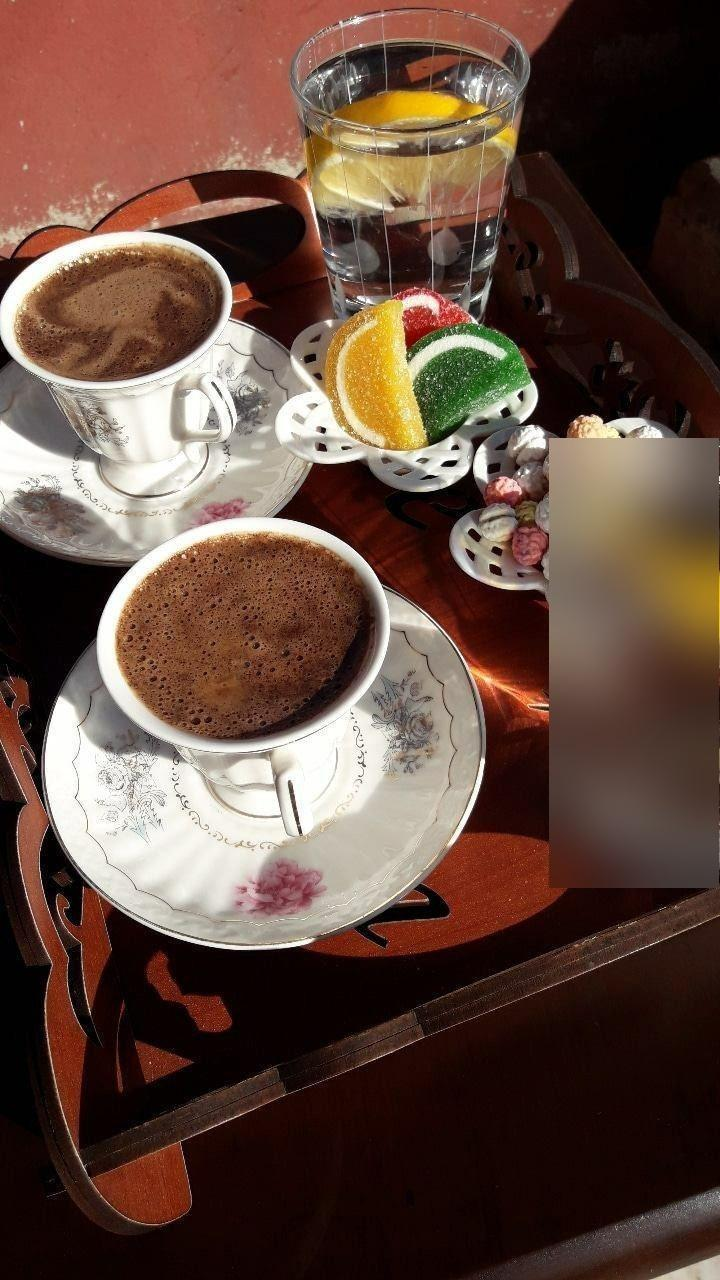cup-handle: (83, 515, 394, 831), (1, 228, 238, 495)
glass-normal: (290, 6, 530, 330)
